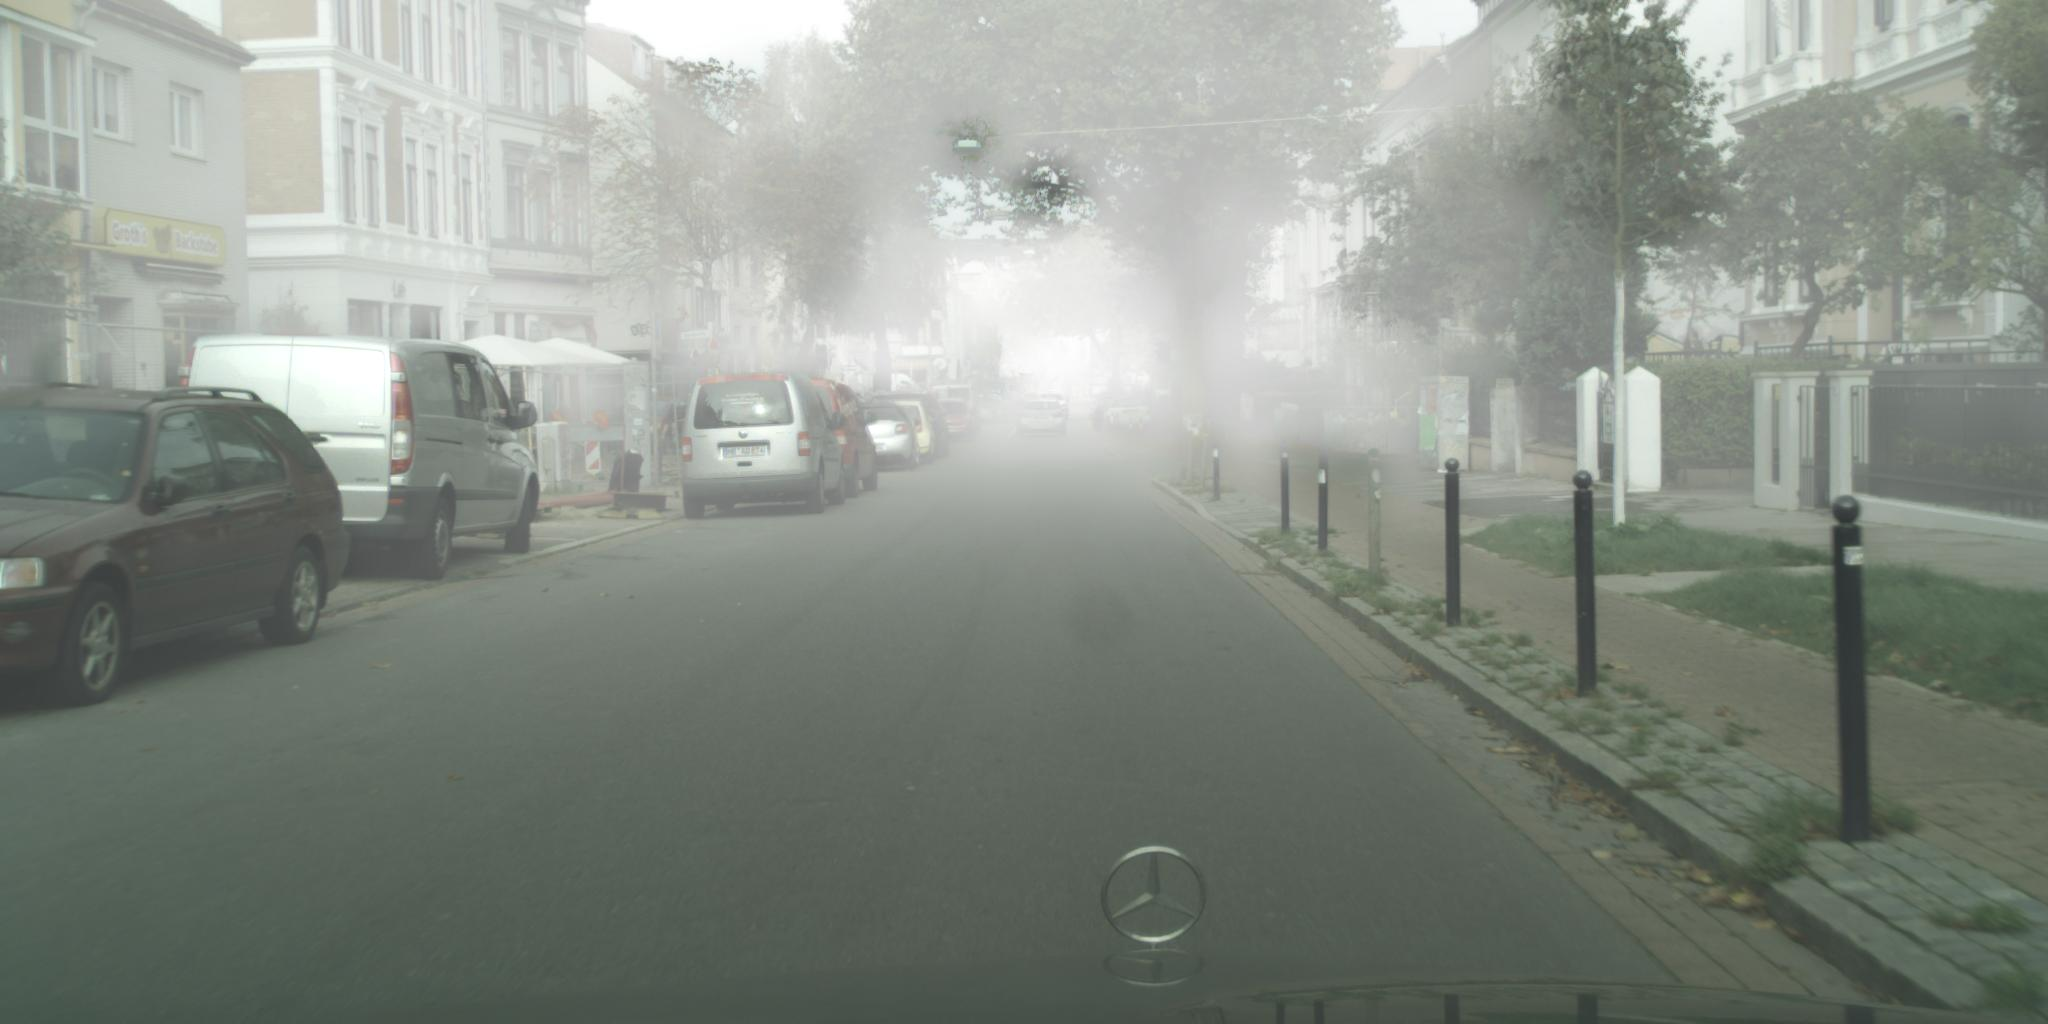car: (1, 381, 353, 709), (175, 333, 541, 580), (682, 371, 846, 520), (805, 381, 880, 500), (865, 391, 951, 460), (852, 404, 923, 474), (862, 401, 936, 465), (927, 387, 984, 434), (1016, 398, 1068, 439), (1102, 394, 1153, 435), (933, 398, 977, 444), (1091, 391, 1139, 432), (884, 375, 927, 413), (1031, 391, 1070, 421)
